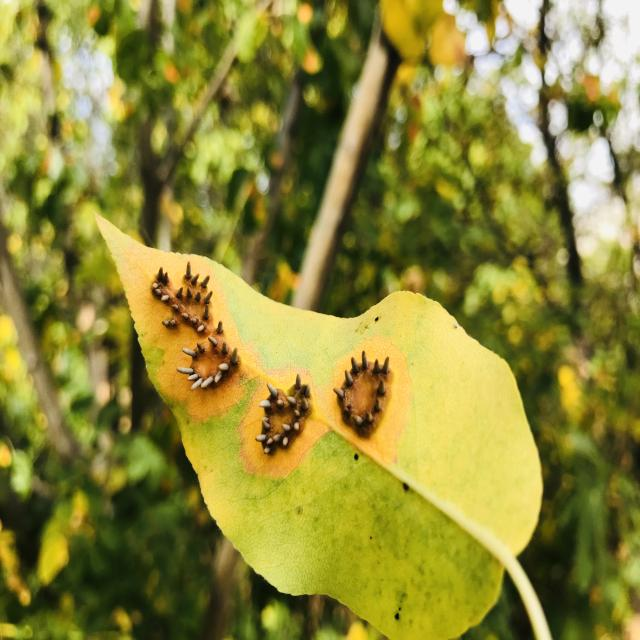Gymnosporangium_Rusts: (118, 216, 447, 503)
